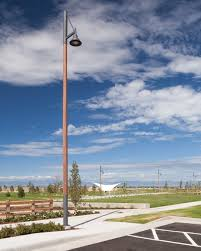light_pole: (60, 10, 83, 230)
